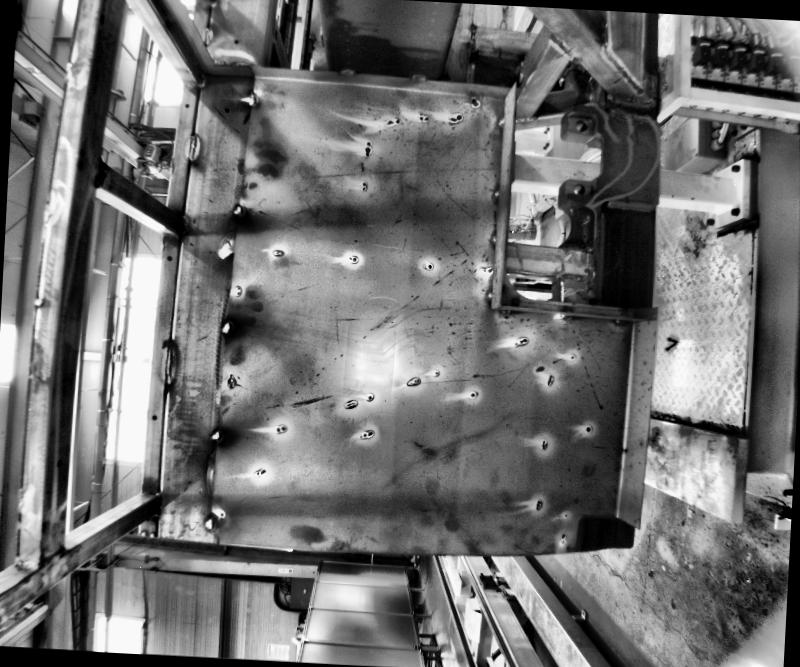hole: (570, 180, 584, 195), (576, 121, 590, 134), (231, 35, 241, 44), (165, 255, 174, 261), (224, 107, 232, 113), (152, 414, 158, 420), (186, 102, 190, 106)
welding: (602, 50, 642, 90), (547, 34, 571, 61), (165, 342, 177, 389), (211, 424, 228, 446), (202, 23, 215, 48), (187, 131, 198, 159), (232, 202, 248, 221), (246, 91, 258, 109), (411, 71, 428, 82), (496, 114, 509, 128), (204, 515, 217, 529), (222, 320, 234, 335), (179, 216, 188, 236), (611, 317, 629, 326), (492, 185, 503, 199), (552, 312, 572, 318), (488, 230, 498, 242), (342, 68, 354, 76), (485, 290, 492, 301), (498, 309, 507, 314)
